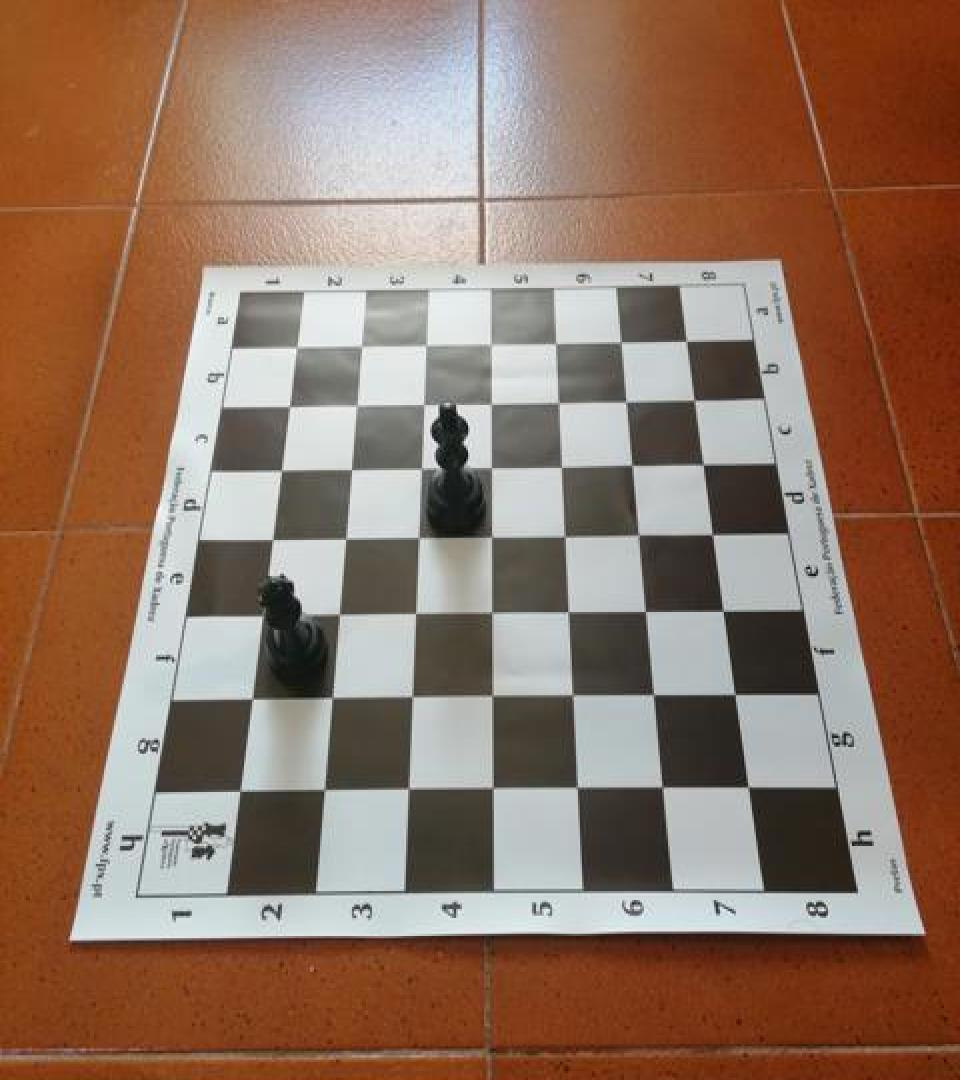xcorner: (673, 322, 703, 356), (607, 323, 637, 357), (542, 324, 572, 358), (477, 325, 507, 359), (412, 326, 442, 360), (347, 327, 377, 361), (682, 380, 712, 414), (613, 381, 643, 415), (545, 382, 575, 416), (477, 384, 507, 418), (409, 384, 439, 418), (342, 386, 372, 420), (275, 387, 305, 421), (691, 444, 721, 478), (619, 446, 649, 480), (548, 446, 578, 480), (407, 449, 437, 483), (336, 450, 366, 484), (266, 451, 296, 485), (701, 514, 731, 548), (626, 515, 656, 549), (552, 516, 582, 550), (478, 518, 508, 552), (404, 518, 434, 552), (330, 520, 360, 554), (257, 521, 287, 555), (556, 593, 586, 627), (478, 594, 508, 628), (401, 595, 431, 629), (324, 596, 354, 630), (247, 596, 277, 630), (724, 676, 754, 710), (642, 676, 672, 710), (560, 677, 590, 711), (478, 678, 508, 712), (397, 678, 427, 712), (316, 680, 346, 714), (738, 770, 768, 804), (651, 770, 681, 804), (565, 770, 595, 804), (479, 770, 509, 804), (393, 772, 423, 806), (308, 772, 338, 806), (224, 773, 254, 807), (283, 329, 313, 362), (477, 448, 507, 481), (712, 592, 742, 625), (634, 592, 664, 625), (236, 681, 266, 714)
